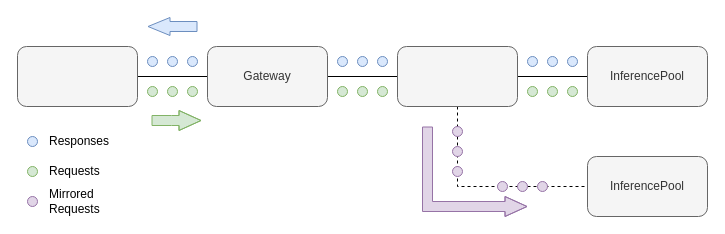
Image size: 725x234. Some labels were removed from this diagram. The shapes that lost their labels are listed below. From the top down, each one's centre as x and y in pixels, then its label:
the point at 77,76: Client
the point at 457,76: HTTPRoute
